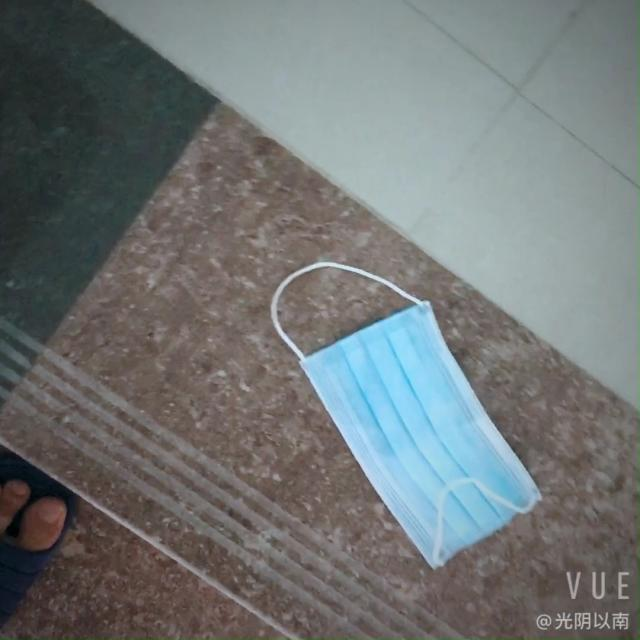face mask: (279, 305, 540, 560)
